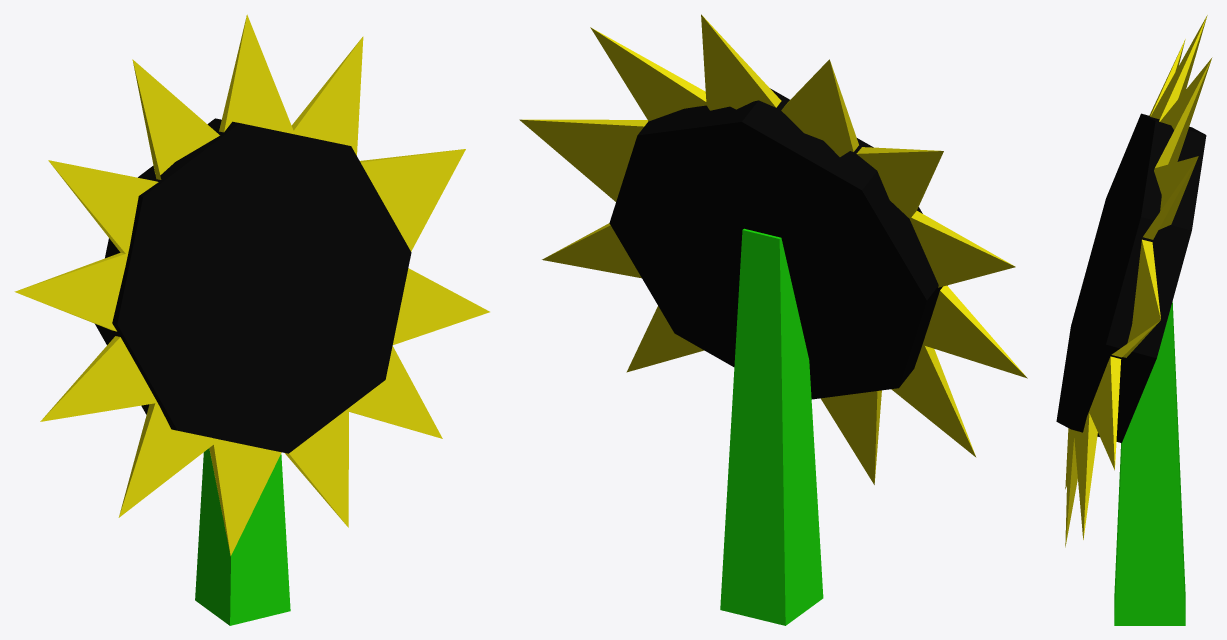
File: подсолнушкин.fbx
The picture shows the model from 3 angles, left to right: view 1: azimuth 30°, elevation 25°; view 2: azimuth 150°, elevation 25°; view 3: azimuth 270°, elevation 25°; orthographic projection. The views are drawn at different scales.
Parts seen in each view (by area): view 1: Cylinder, Cylinder.001, Cube; view 2: Cylinder, Cylinder.001, Cube; view 3: Cylinder, Cube, Cylinder.001.
Boxes of the visible parts, x1=… form: Cylinder: x1=95, y1=118, x2=411, y2=453; Cylinder.001: x1=14, y1=14, x2=489, y2=555; Cube: x1=195, y1=448, x2=290, y2=625; Cylinder: x1=609, y1=88, x2=947, y2=399; Cylinder.001: x1=519, y1=14, x2=1027, y2=484; Cube: x1=720, y1=228, x2=823, y2=625; Cylinder: x1=1056, y1=113, x2=1206, y2=442; Cube: x1=1114, y1=302, x2=1185, y2=625; Cylinder.001: x1=1065, y1=15, x2=1212, y2=547.
Size of the model in its own units: 274 by 321 by 79.39.
